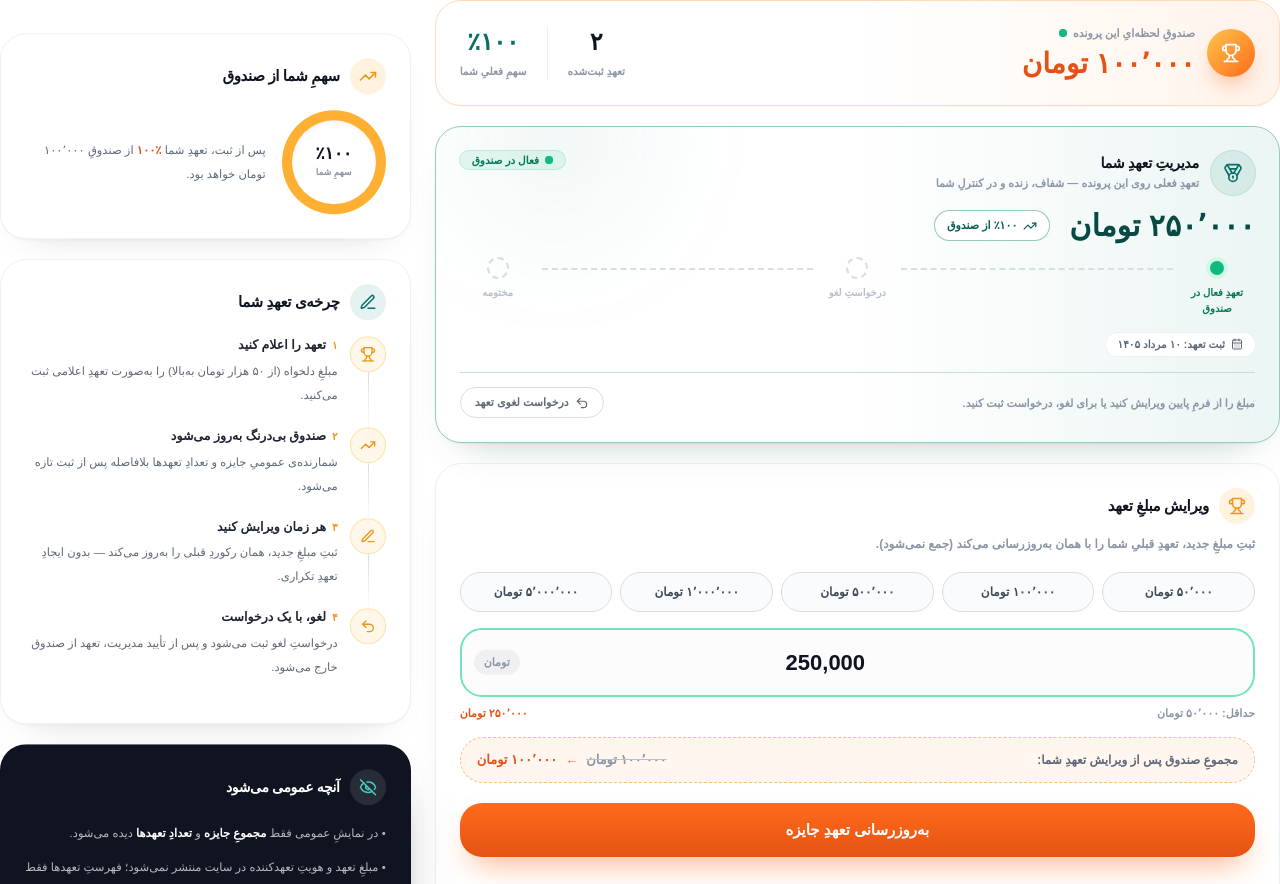
Test: BountyPanel — کارتِ مدیریتِ تعهد › تعهدِ فعلی: مُهرِ «فعال در صندوق» + پرکردن ورودی + لغوی دومرحله‌ای
Expected: the heading "مدیریتِ تعهدِ شما" is shown, [1100,155,1199,171]
Expected: the text "فعال در صندوق" is shown, [460,150,565,169]
// مرحله‌ی ۱ — نوارِ تأیید بدون POST
Click the button "درخواست لغوی تعهد" at [532, 403], box [460,387,604,418]
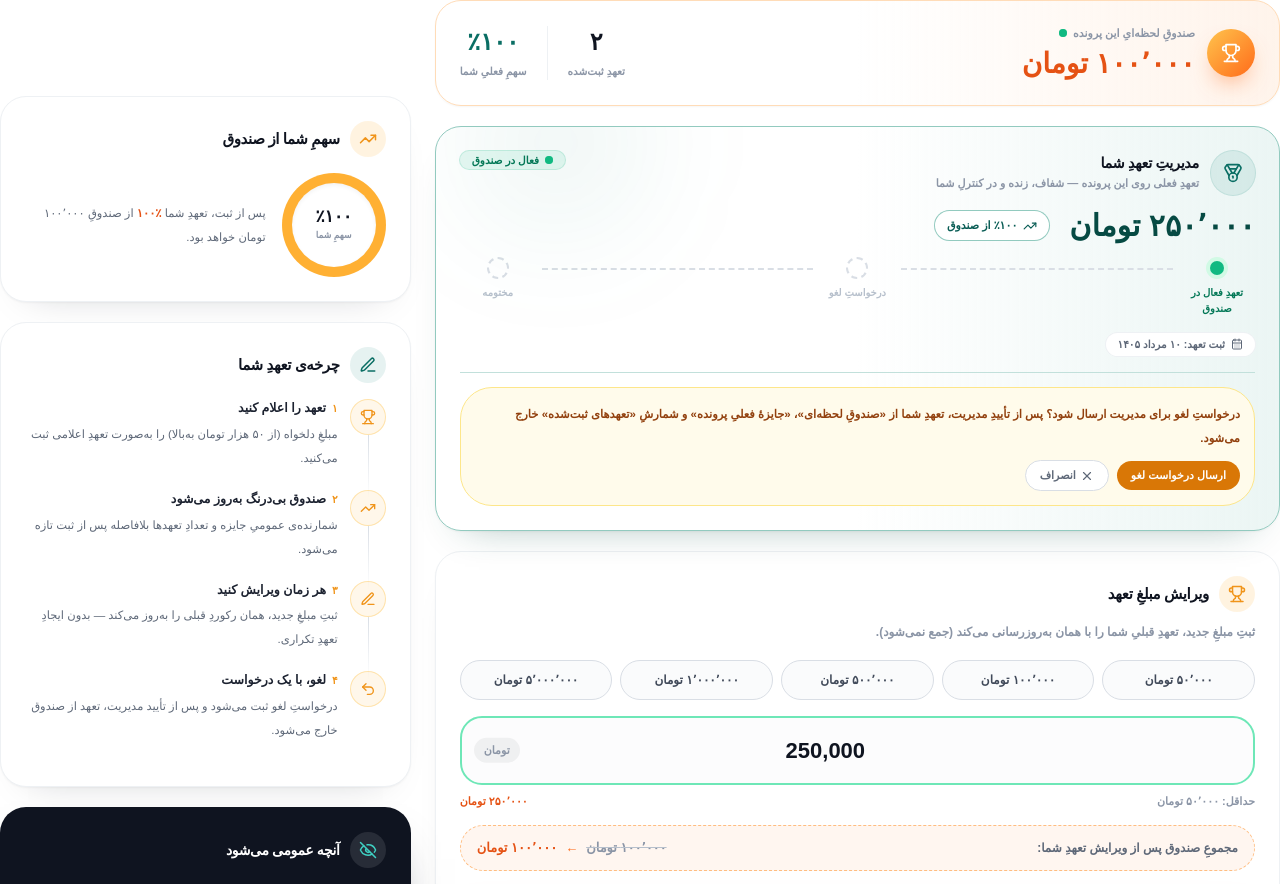
Result: the text "درخواستِ لغو برای مدیریت ارسال شود؟" is shown at [515,408,1240,444]
// انصرافِ مسیرِ اشتباه
Click the button "انصراف" at [1067, 476], box [1025,460,1109,491]
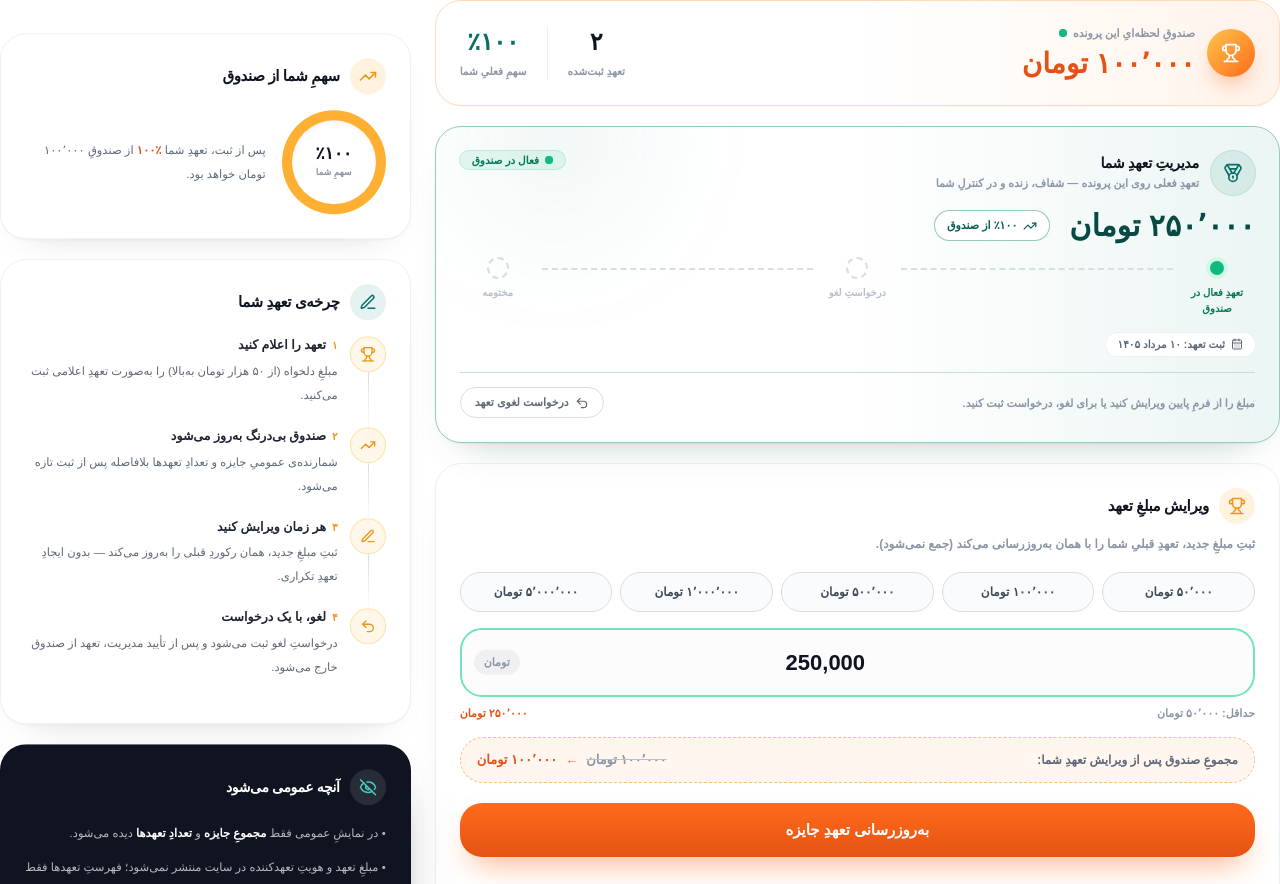
Result: the text "درخواستِ لغو برای مدیریت ارسال شود؟" is gone
// مرحله‌ی ۲ — ارسال واقعی → مُهرِ «در انتظار تأیید»
Click the button "درخواست لغوی تعهد" at [532, 403], box [460,387,604,418]
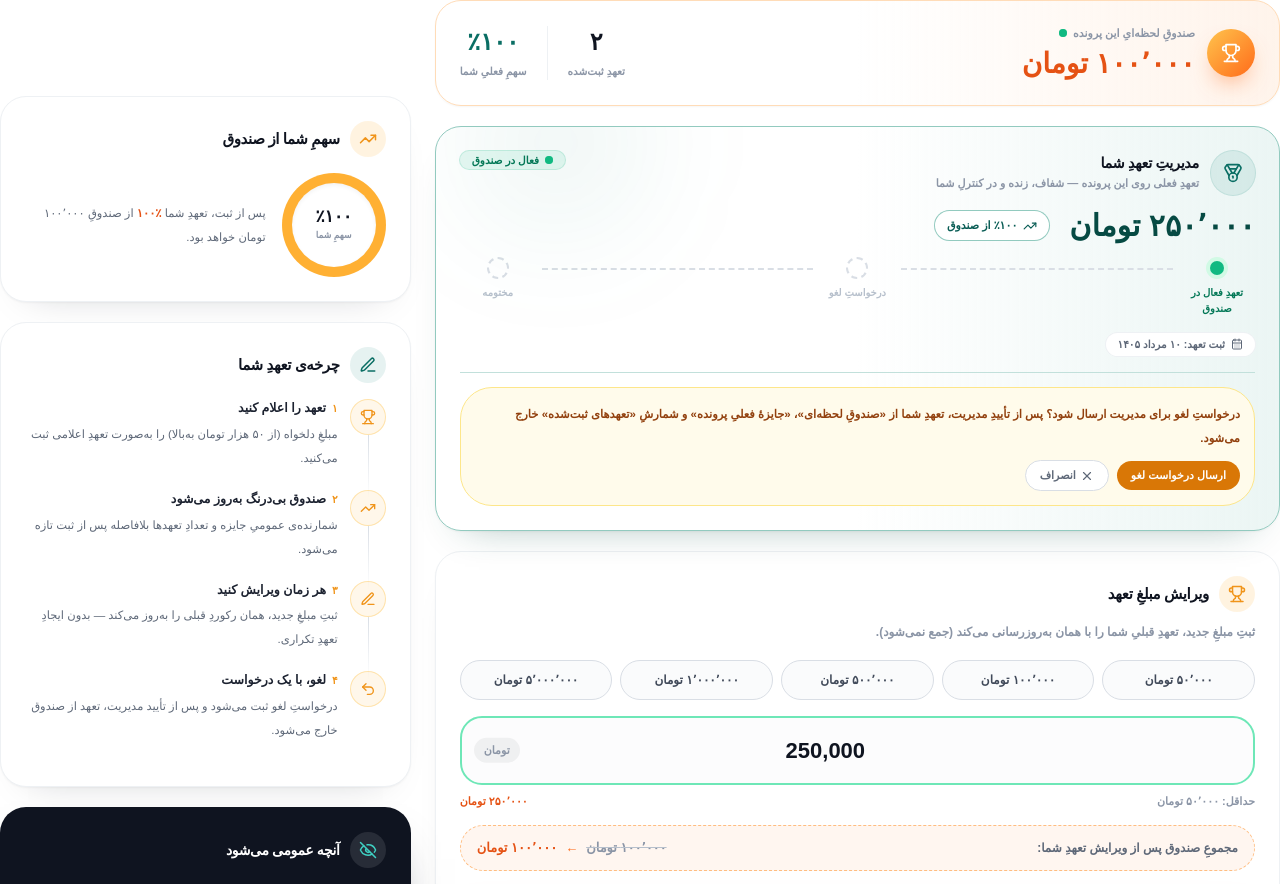
Click the button "ارسال درخواست لغو" at [1178, 476], box [1117,461,1240,490]
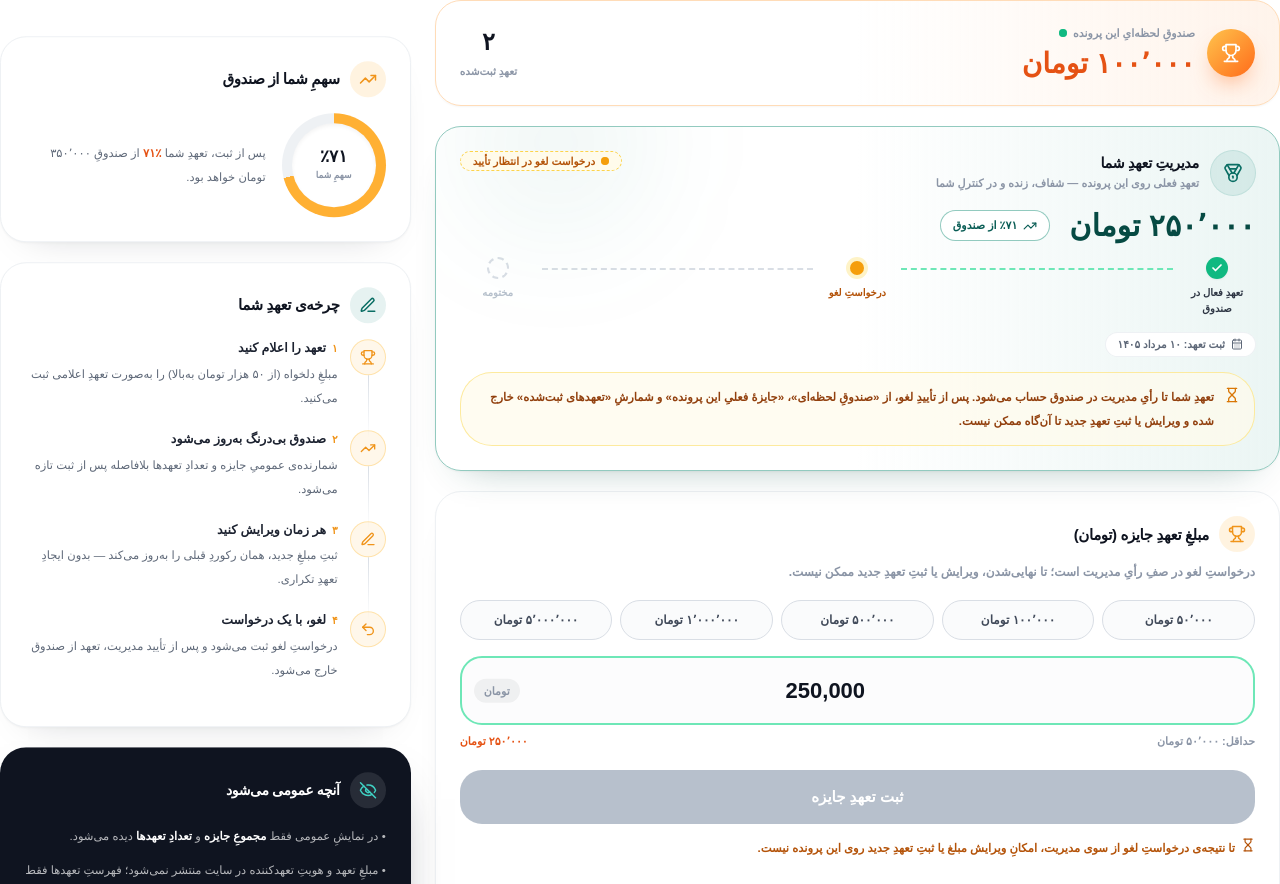
Result: the text "درخواست لغو در انتظار تأیید" is shown at [460,150,622,171]
